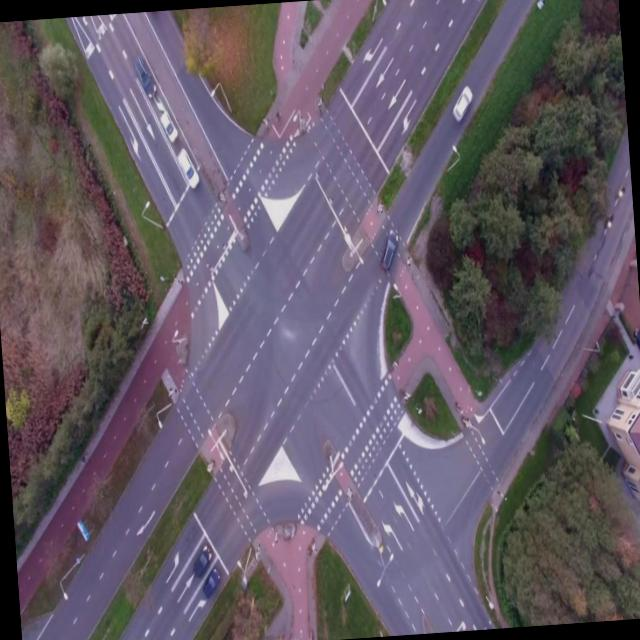car: (171, 145, 202, 190), (374, 228, 403, 272), (446, 81, 476, 123), (132, 54, 158, 98), (156, 107, 180, 144), (190, 542, 215, 577)
